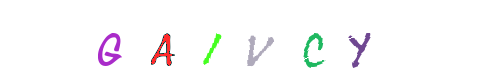A: (124, 0, 204, 80)
C: (235, 0, 315, 80)
G: (69, 0, 149, 80)
I: (200, 0, 280, 80)
V: (206, 0, 286, 80)
Y: (267, 0, 347, 80)
